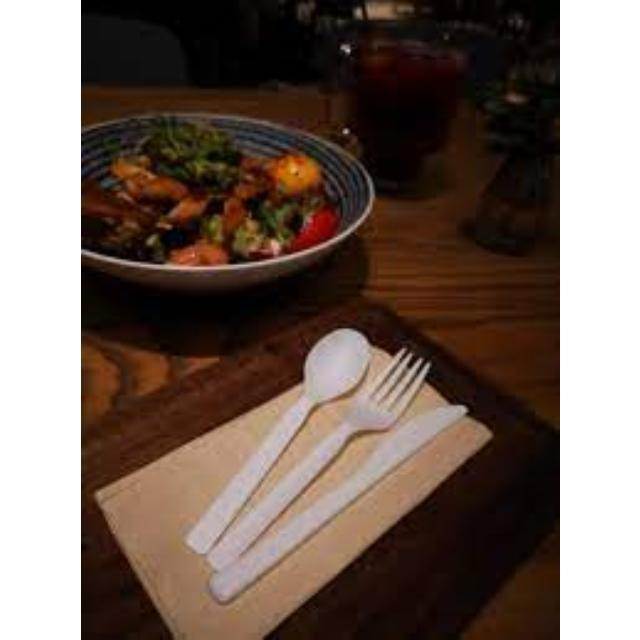Plastico descartable: (210, 405, 466, 602), (208, 349, 430, 569), (188, 329, 370, 554)
